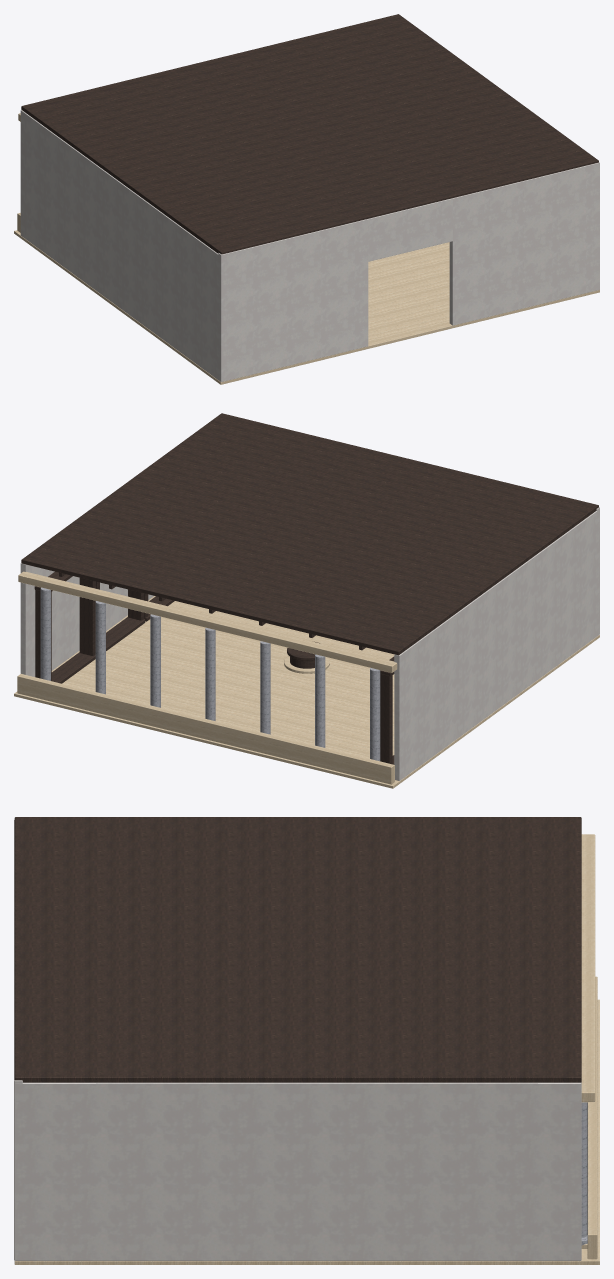
File: alexandria-lite.glb
3 renders of one model, top to bottom at view 1: azimuth 30°, elevation 25°; view 2: azimuth 150°, elevation 25°; view 3: azimuth 270°, elevation 25°, orthographic. The views are drawn at different scales.
Parts seen in each view (by area): view 1: Cedar coffered roof, East plaster wall, Mouseion limestone floor; view 2: Cedar coffered roof, East plaster wall, Mouseion limestone floor, Harbor architrave, Harbor column 0; view 3: Cedar coffered roof, East plaster wall, Harbor architrave, Mouseion limestone floor, Harbor column 0.
Boxes of the visible parts, <box> form: Cedar coffered roof: <box>21,14,598,254</box>; East plaster wall: <box>20,110,599,381</box>; Mouseion limestone floor: <box>14,230,599,384</box>; Cedar coffered roof: <box>21,413,598,764</box>; East plaster wall: <box>20,507,599,780</box>; Mouseion limestone floor: <box>14,596,599,788</box>; Harbor architrave: <box>17,571,397,784</box>; Harbor column 0: <box>40,587,380,761</box>; Cedar coffered roof: <box>14,817,581,1082</box>; East plaster wall: <box>14,820,581,1260</box>; Harbor architrave: <box>581,834,597,1259</box>; Mouseion limestone floor: <box>14,999,599,1264</box>; Harbor column 0: <box>581,1102,587,1245</box>.
Size of the model in its own units: 23.5 by 7.83 by 22.23.
Materials: 5 (5 with a texture image).
